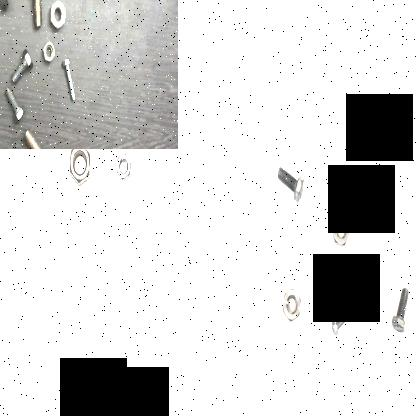Bolts: (275, 162, 306, 206), (330, 300, 359, 341), (390, 286, 414, 333), (0, 84, 29, 121), (11, 44, 33, 87), (21, 123, 55, 149), (61, 56, 78, 100), (25, 0, 45, 31)
NUTS: (327, 212, 354, 252), (67, 149, 92, 191), (280, 286, 305, 328), (114, 149, 136, 192), (48, 0, 68, 32), (321, 272, 337, 310), (364, 202, 380, 238), (361, 284, 377, 318), (42, 40, 58, 64)
